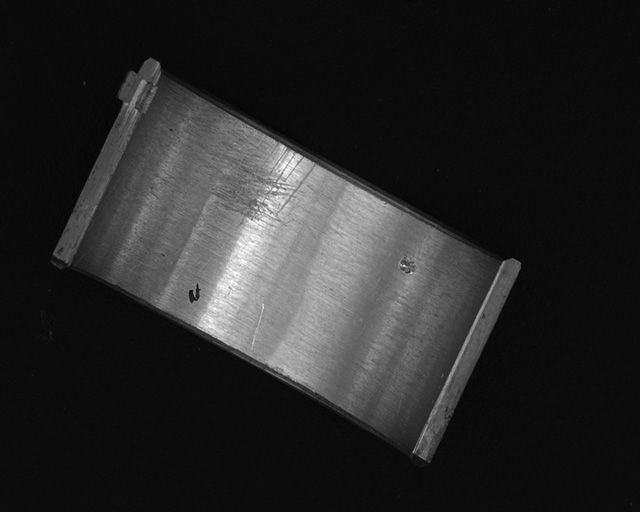blot: (187, 283, 200, 305)
bruise: (398, 253, 416, 275)
nick: (250, 302, 265, 353)
scratch: (196, 98, 315, 228)
